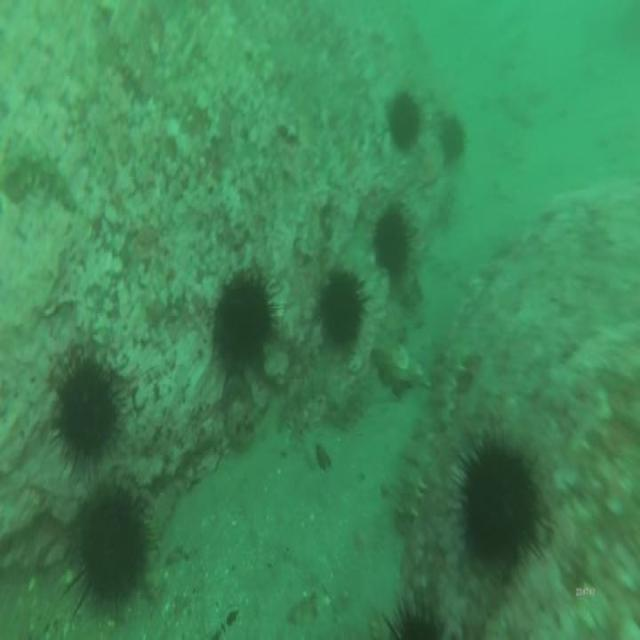echinus: (452, 416, 548, 582), (52, 479, 156, 621), (49, 352, 127, 476), (210, 267, 286, 378), (318, 264, 367, 354), (377, 586, 456, 640), (370, 205, 412, 280), (388, 85, 424, 158), (438, 109, 468, 172)
holothurian: (0, 126, 81, 216), (390, 410, 441, 540), (430, 335, 473, 436)
